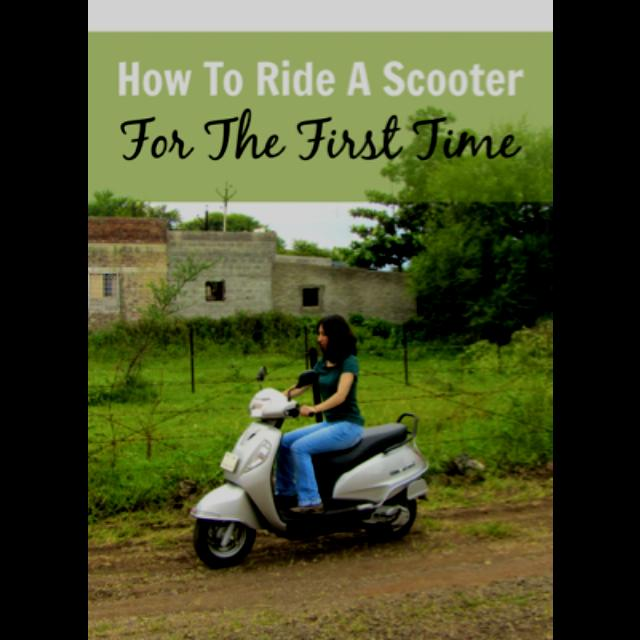With Helmet: (309, 310, 357, 362)
